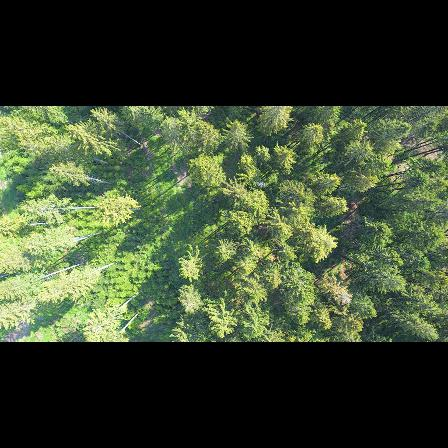Sick: (334, 287, 355, 308)
